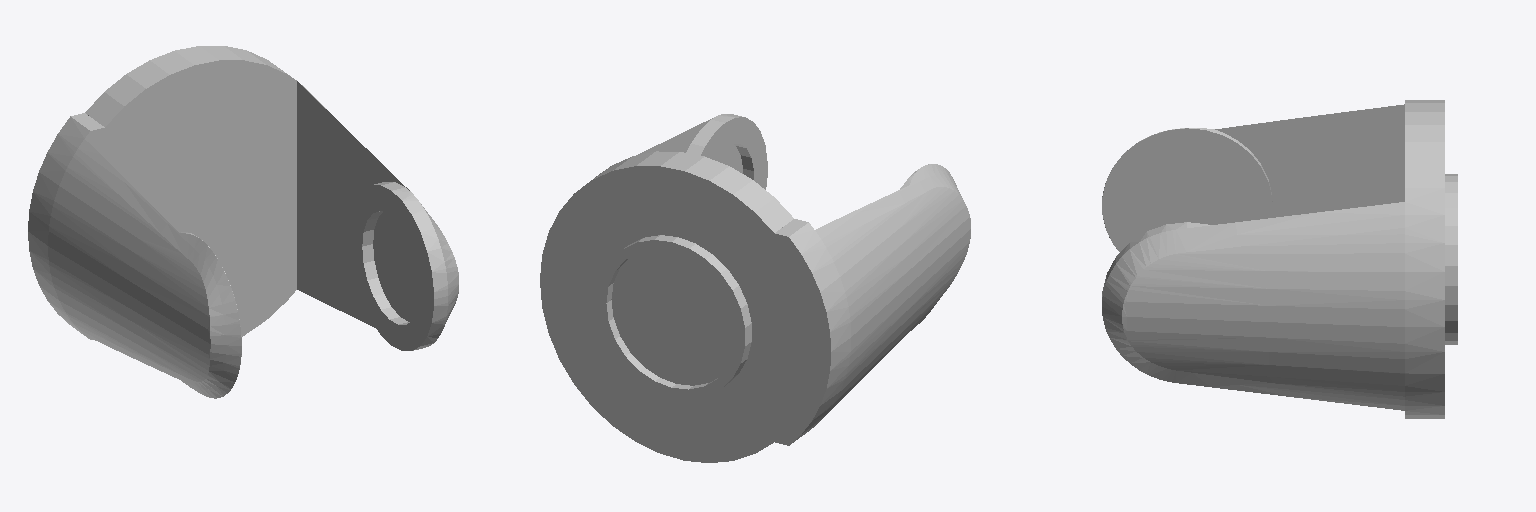
Rendered from Hip_roll_left.obj.
3 renders of one model, left to right at view 1: azimuth 30°, elevation 25°; view 2: azimuth 150°, elevation 25°; view 3: azimuth 270°, elevation 25°, orthographic.
Parts seen in each view (by area): view 1: Hip_Roll_Left; view 2: Hip_Roll_Left; view 3: Hip_Roll_Left.
Part boxes in pixels (x1,y1,x2,y2): Hip_Roll_Left: (28,46,458,398); Hip_Roll_Left: (540,114,970,462); Hip_Roll_Left: (1102,100,1457,418).
Bounding box in the file's own units: 0.1005 × 0.0954 × 0.1064.